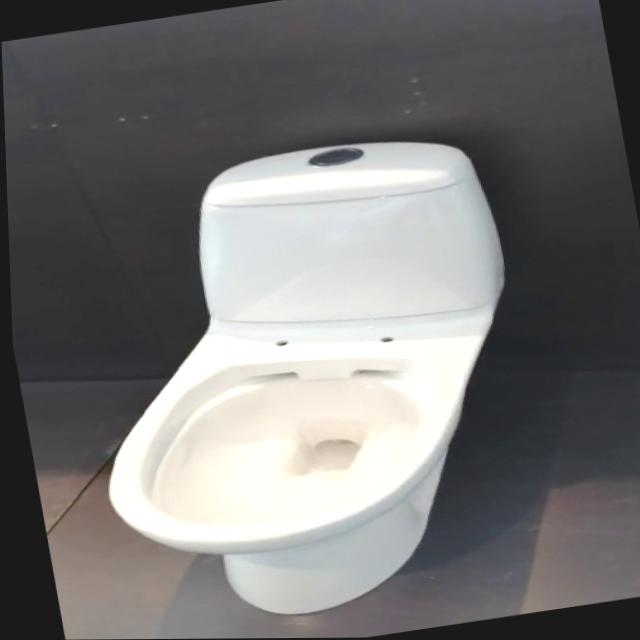toilet: (48, 123, 557, 640)
